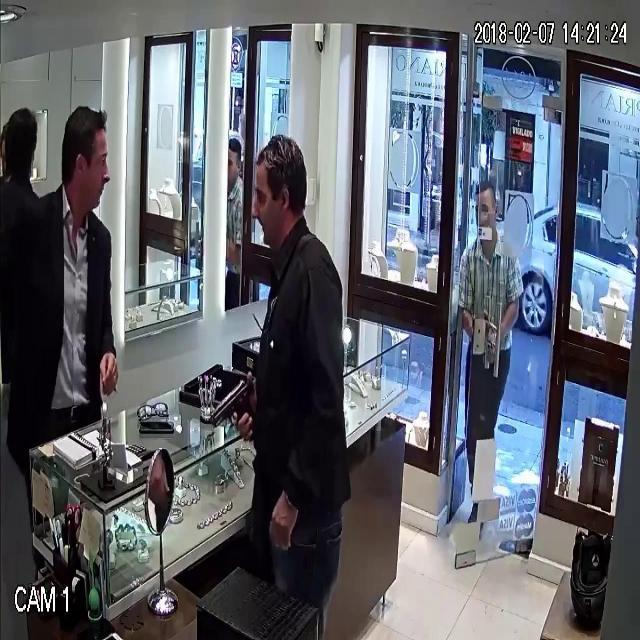weapon: (202, 362, 264, 454)
